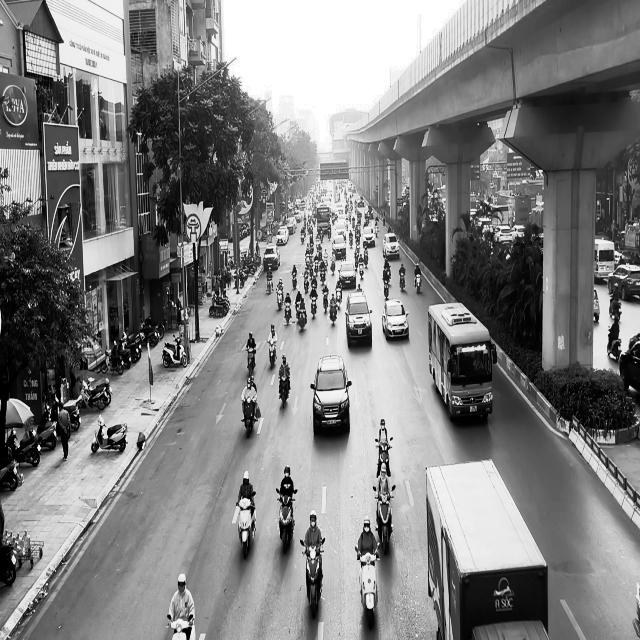bus: (427, 301, 495, 421), (594, 238, 615, 282)
car: (310, 354, 352, 435), (344, 290, 372, 347), (382, 299, 409, 340), (382, 232, 400, 259)
motorbike: (355, 544, 379, 628), (300, 537, 324, 618), (373, 484, 395, 554), (275, 486, 297, 554), (91, 414, 128, 454), (236, 492, 256, 559), (374, 437, 392, 478), (241, 393, 257, 438), (167, 614, 194, 639), (278, 372, 290, 408), (245, 347, 256, 379), (267, 337, 277, 369), (414, 272, 422, 293), (398, 272, 406, 290)
truck: (425, 458, 549, 639)
